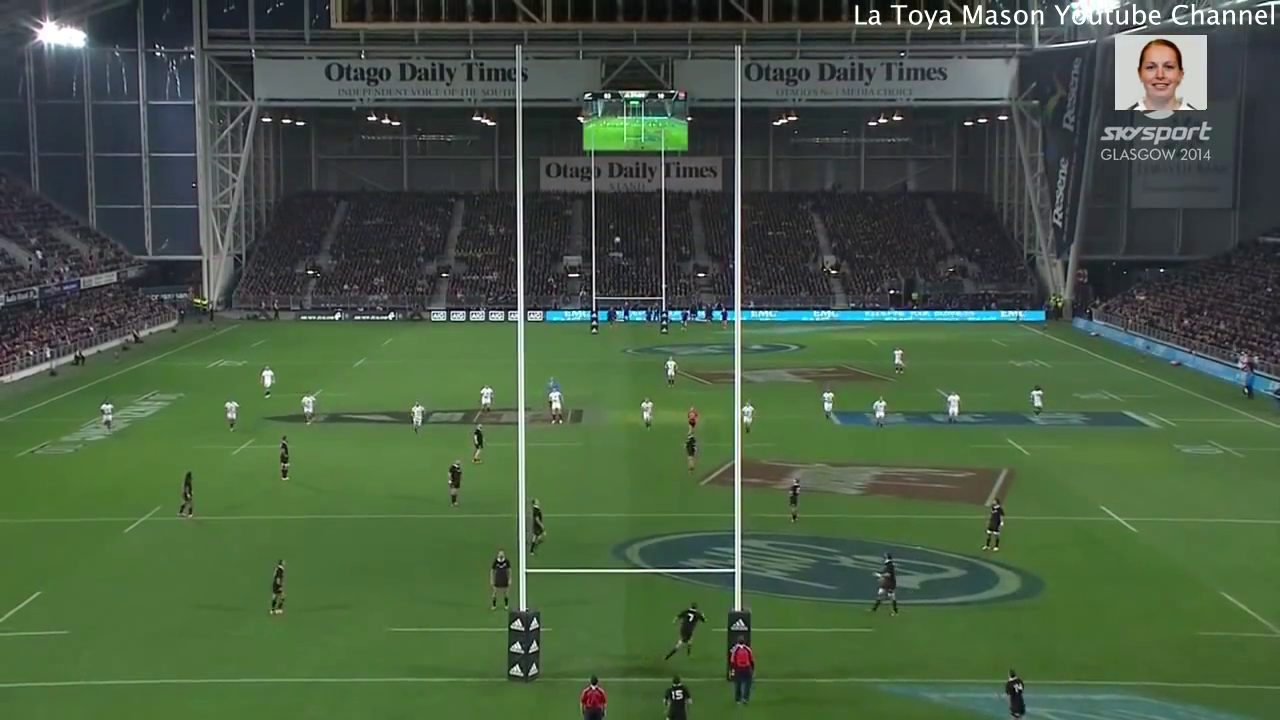10_metre: (1166, 432, 1278, 465), (965, 429, 1071, 460), (1, 438, 85, 463), (201, 436, 290, 459)
player: (660, 599, 707, 664), (869, 550, 904, 620), (725, 637, 757, 707), (485, 548, 512, 613), (977, 493, 1004, 556), (578, 673, 610, 720), (663, 674, 695, 720), (1002, 668, 1029, 720), (266, 557, 288, 615), (528, 497, 547, 558), (443, 461, 466, 510), (275, 431, 295, 482), (176, 469, 196, 519), (298, 391, 320, 427), (681, 434, 698, 478), (637, 395, 656, 432), (406, 400, 426, 435), (223, 398, 242, 434), (259, 363, 278, 399), (470, 424, 486, 466), (944, 391, 963, 425), (788, 478, 802, 522), (871, 396, 889, 430), (549, 387, 564, 426), (663, 354, 679, 389), (100, 395, 115, 432), (1029, 384, 1045, 418), (479, 382, 494, 417), (742, 399, 756, 435), (890, 345, 905, 377), (821, 389, 835, 422), (685, 405, 700, 434), (547, 377, 563, 395)
post: (503, 251, 766, 690), (583, 201, 674, 338)
